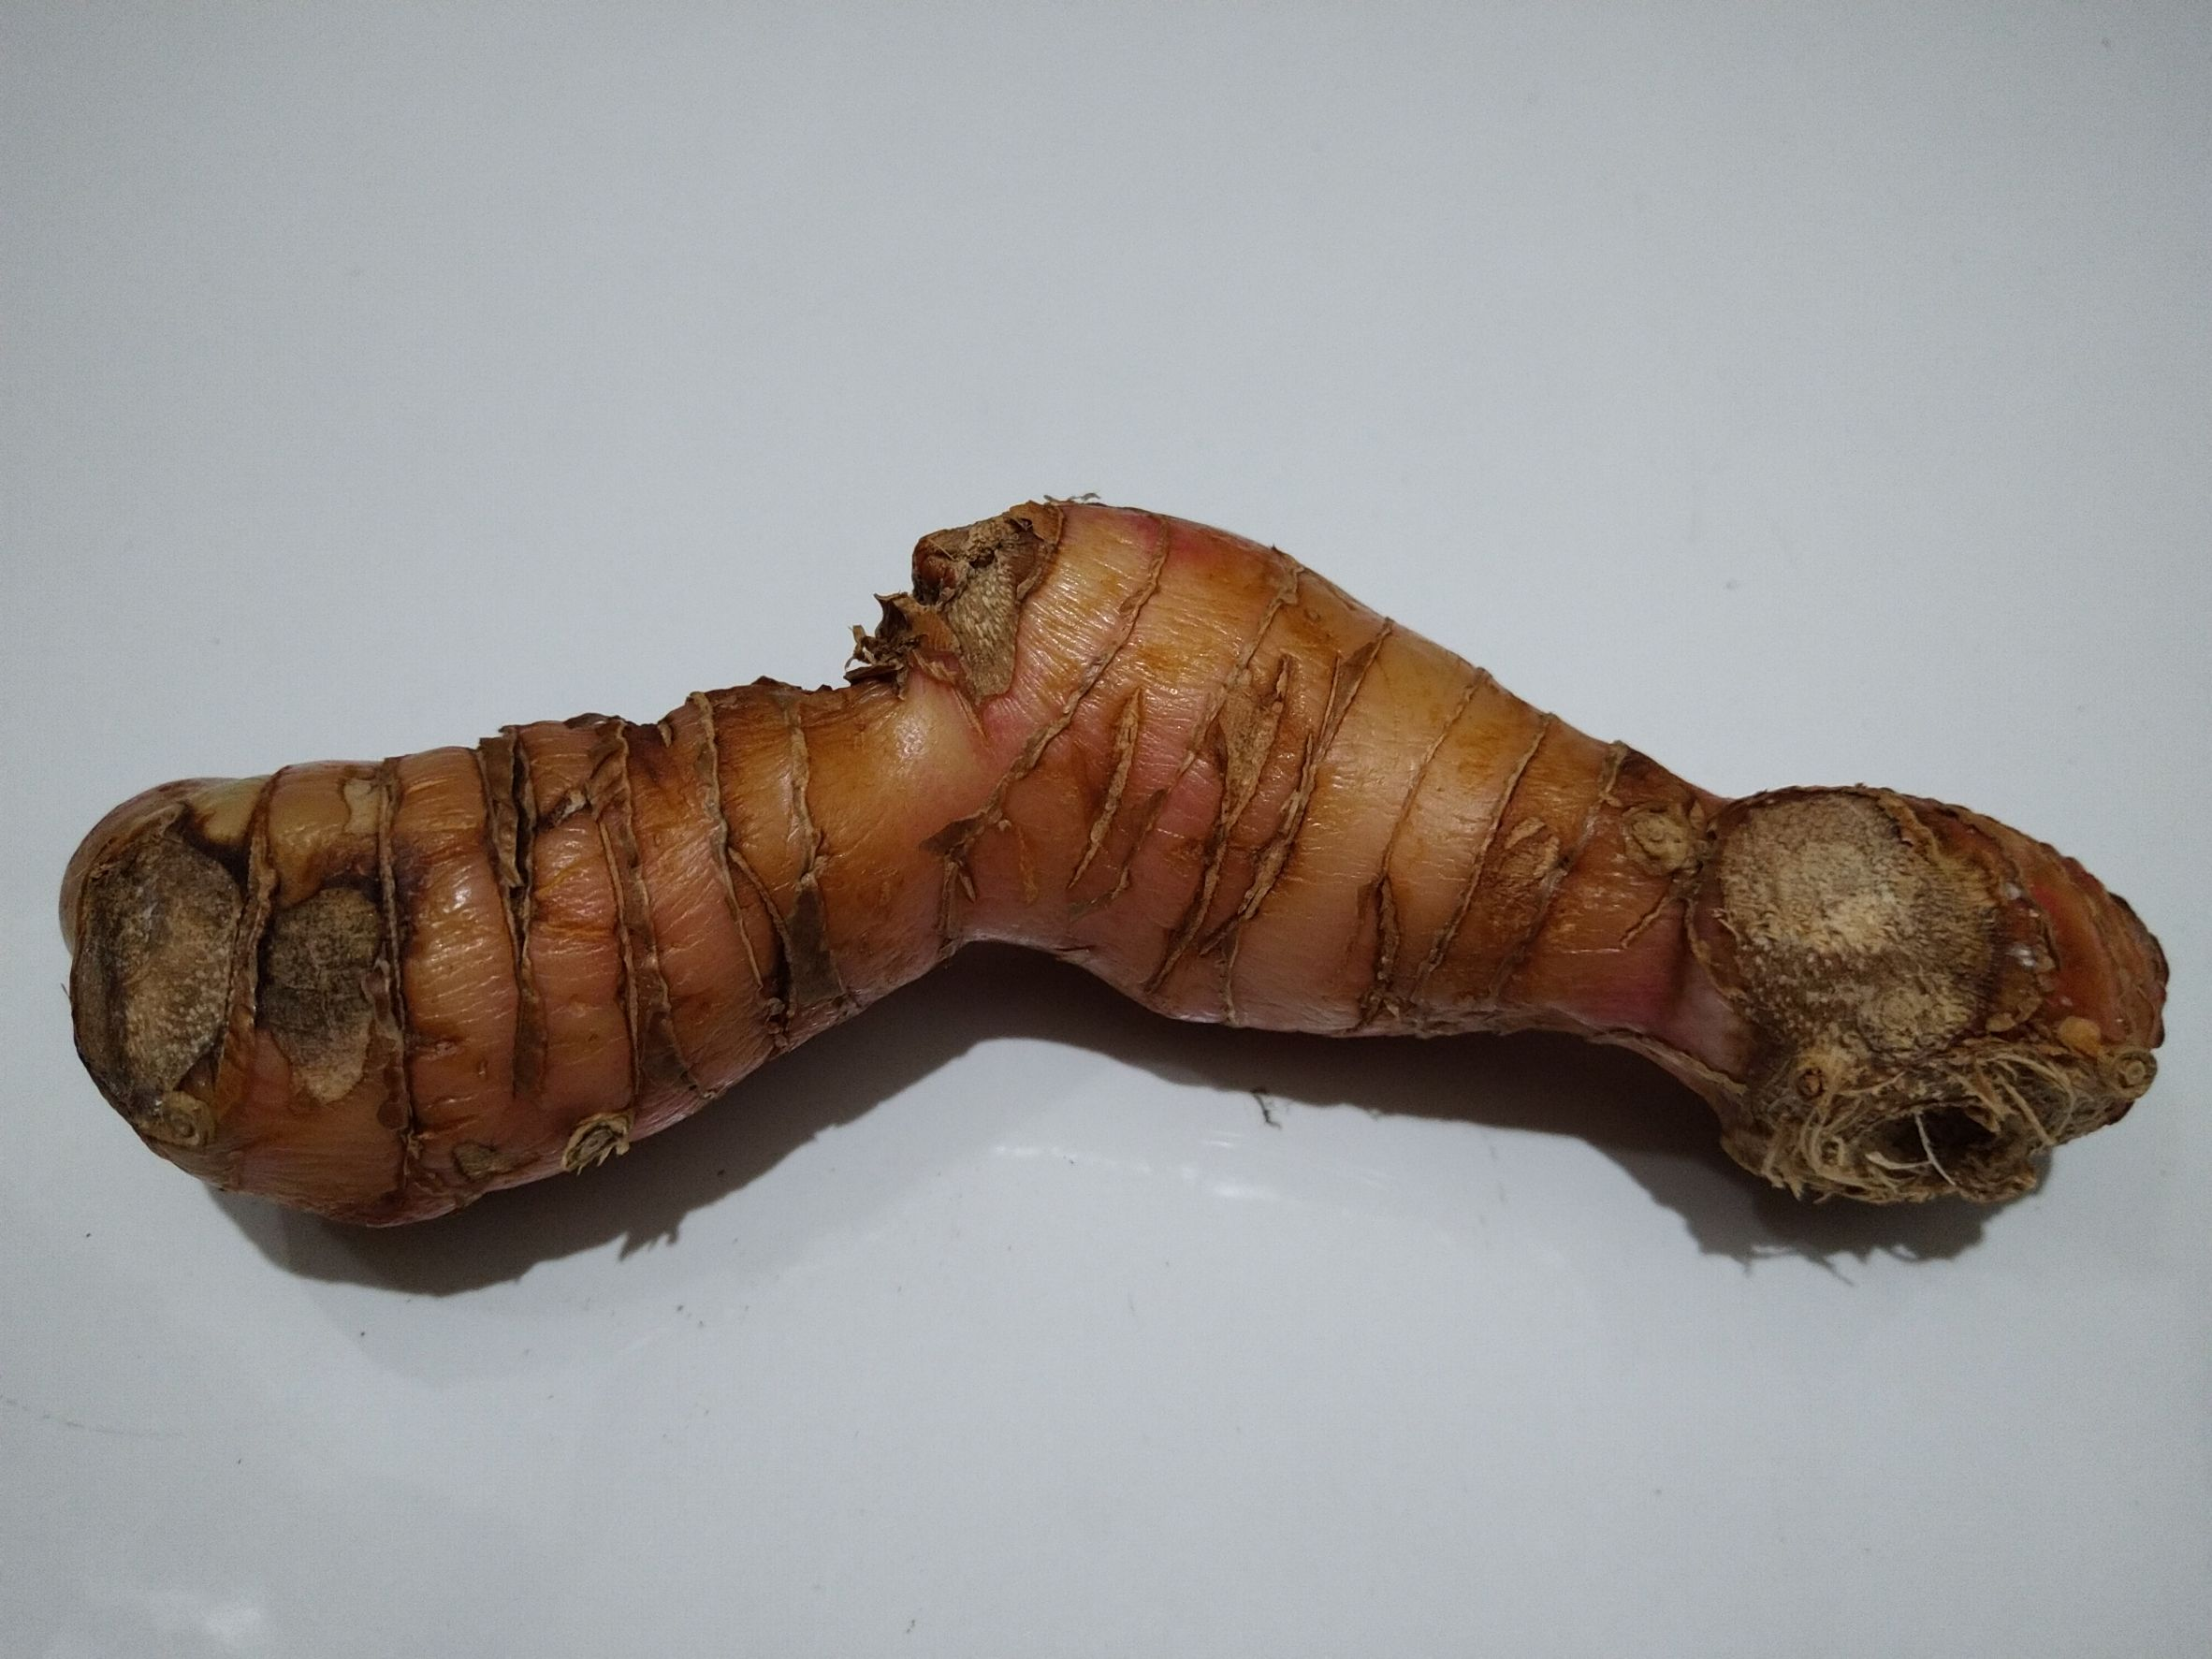Lengkuas: (75, 495, 2158, 1312)
